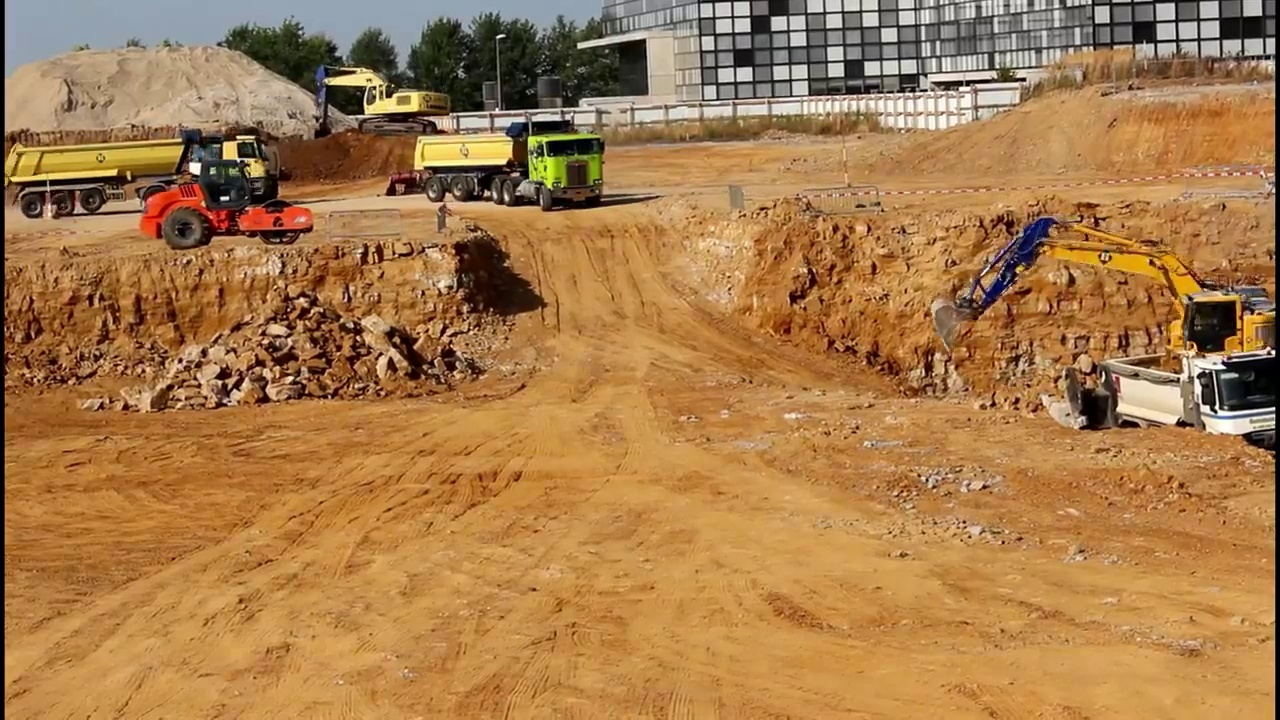compactor: (140, 158, 318, 251)
excavator: (926, 216, 1280, 421), (305, 57, 453, 144)
truck: (1, 121, 264, 220), (1104, 345, 1280, 477), (414, 117, 612, 216)
